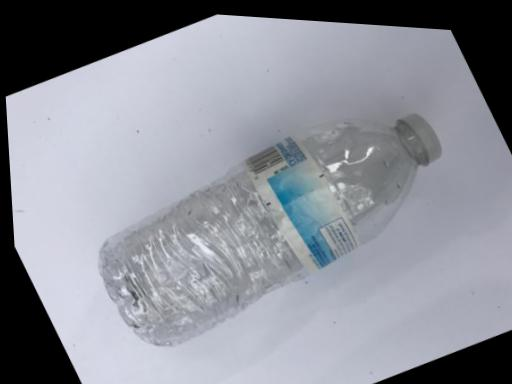plastic: (59, 59, 497, 384)
